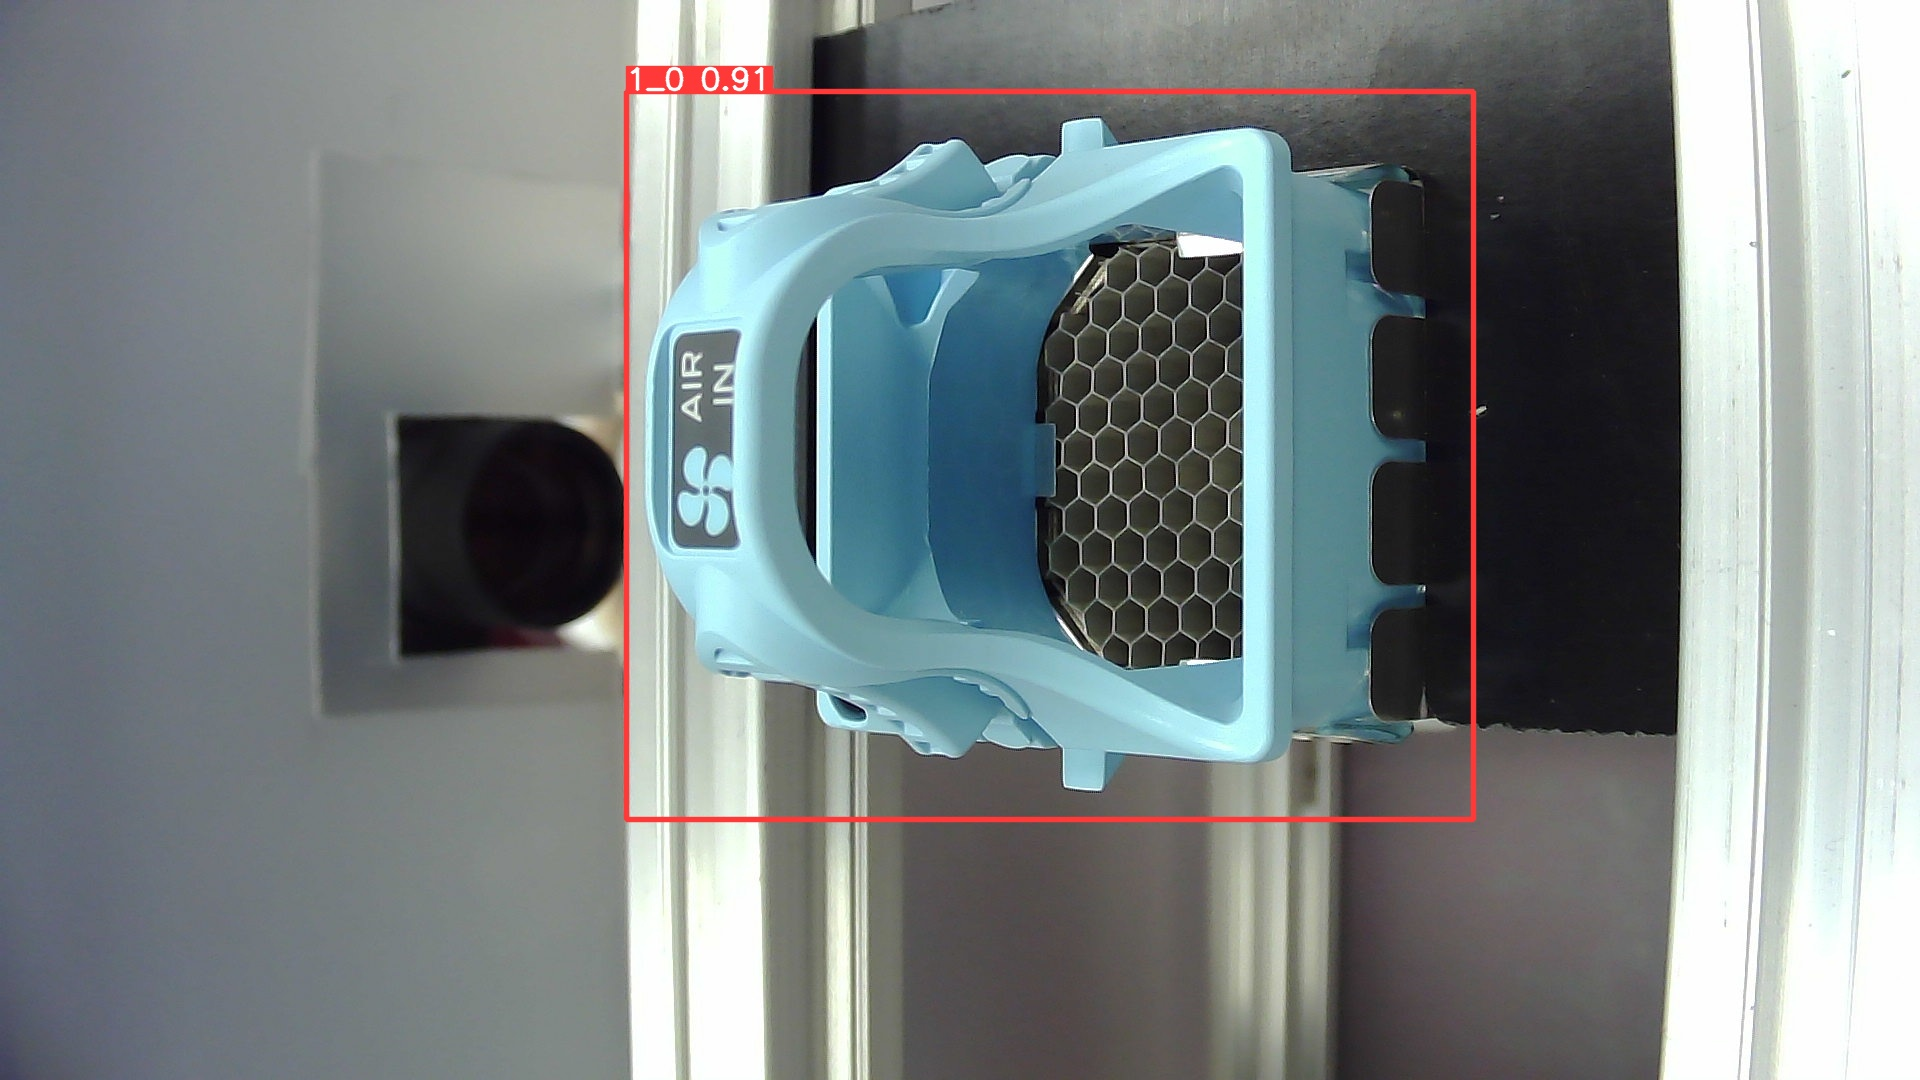1_0: (252, 78, 1146, 790)
